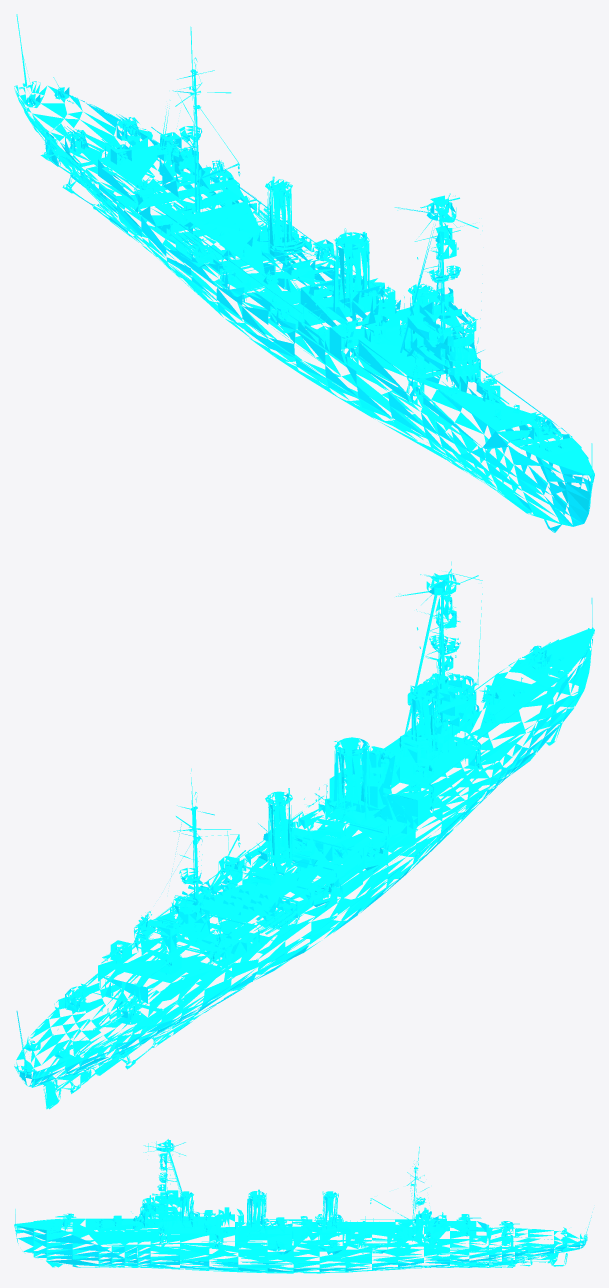
The model's file is KrasniKrym.glb.
3 renders of one model, top to bottom at view 1: azimuth 30°, elevation 25°; view 2: azimuth 150°, elevation 25°; view 3: azimuth 270°, elevation 25°, orthographic. The views are drawn at different scales.
Bounding box in the file's own units: 1.19 × 2.62 × 10.72.
